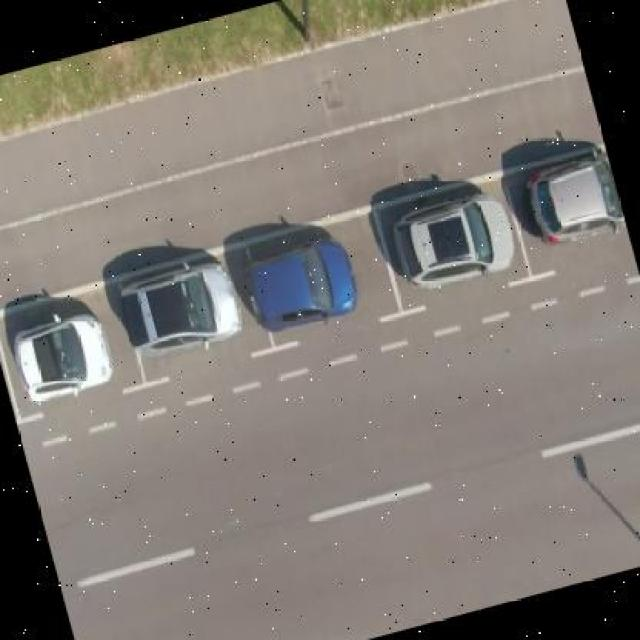Car: (113, 255, 249, 362), (238, 231, 362, 340), (389, 198, 520, 293), (518, 154, 629, 257), (7, 309, 118, 410)
